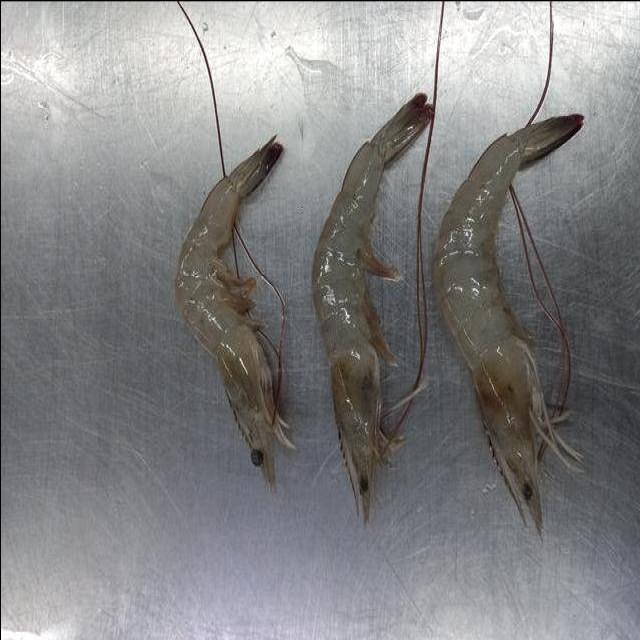shrimp: (432, 114, 581, 533), (312, 93, 431, 522), (175, 138, 292, 490)
